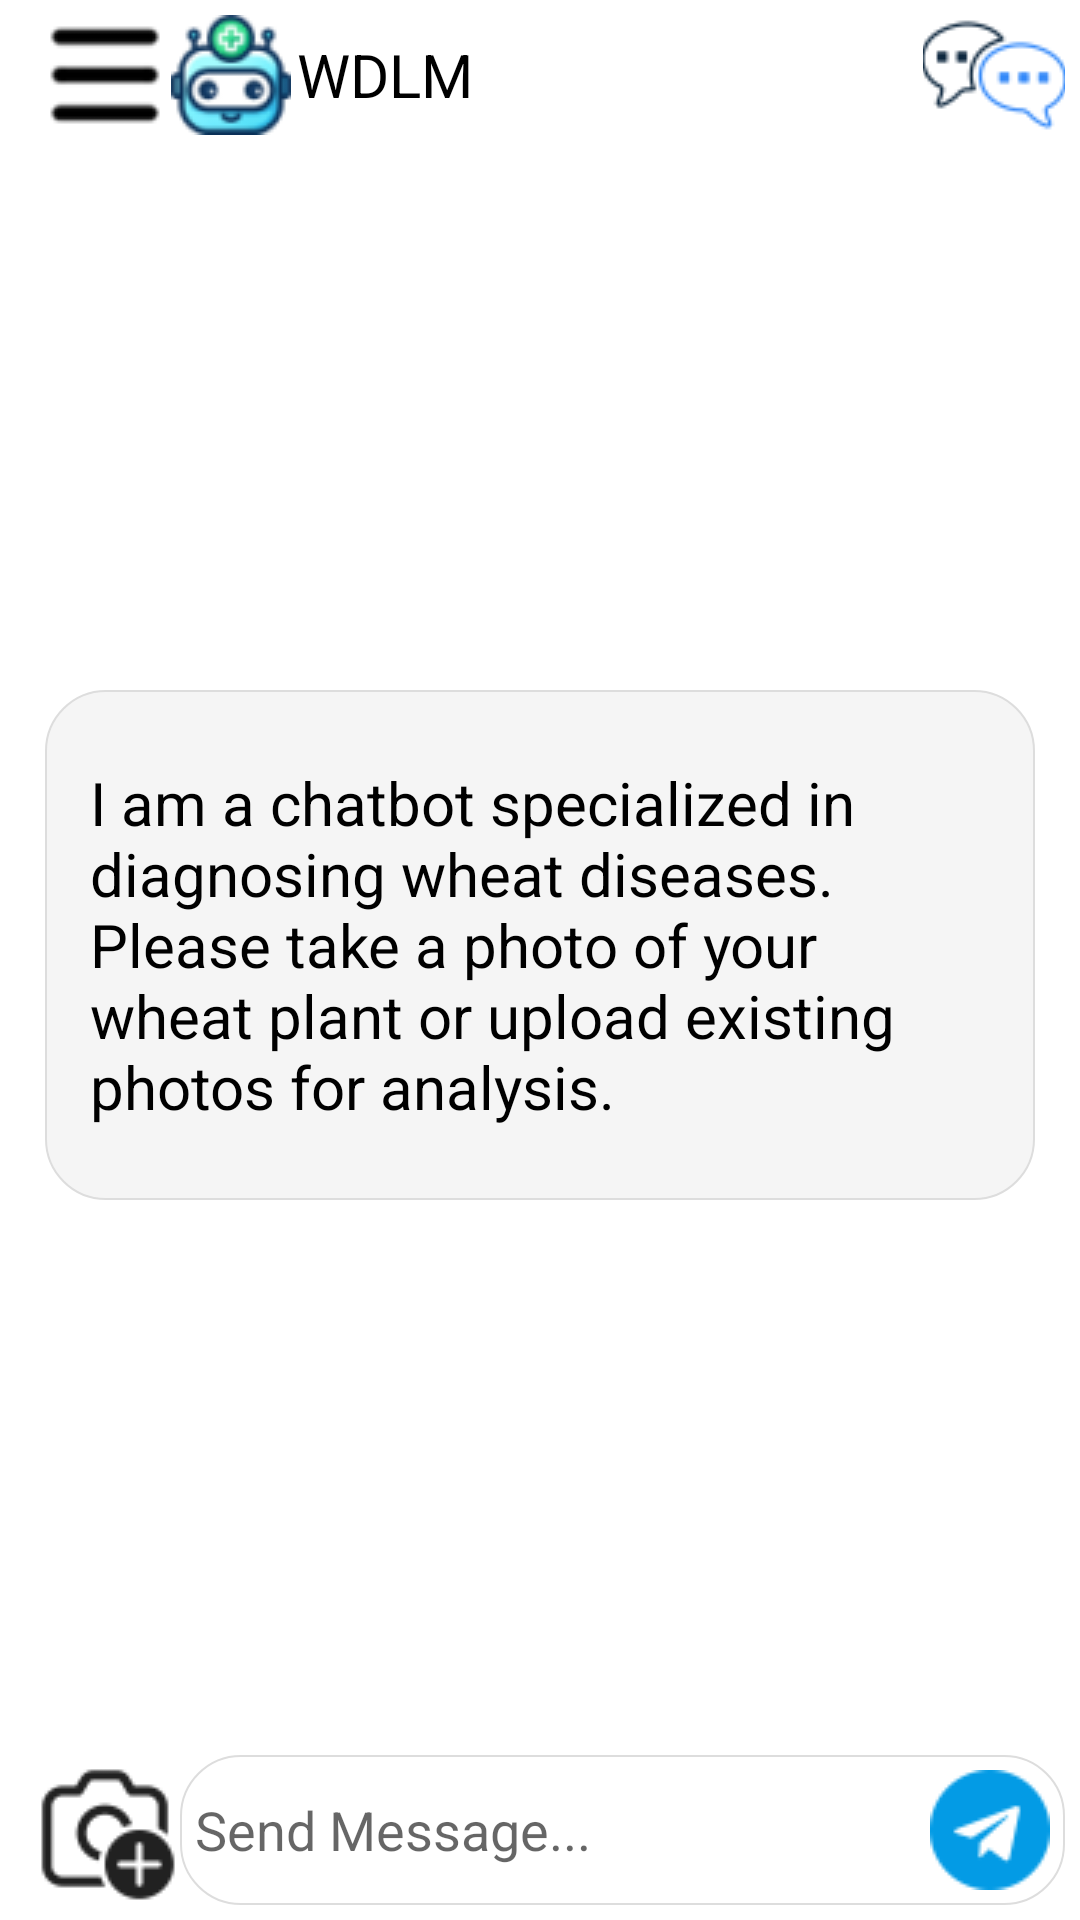

Screen size 1080w x 1920h. Icon name, then its center in pixels as point (x, y):
list: point (105, 75)
photo: point (108, 1834)
